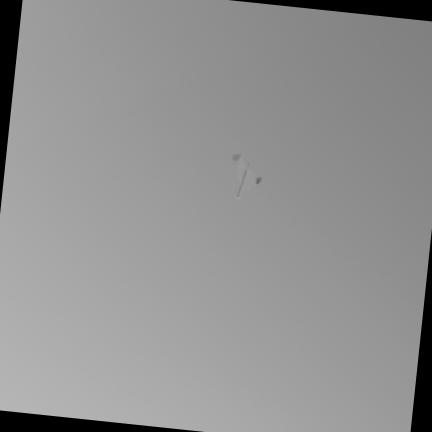Shahed: (233, 154, 261, 198)
